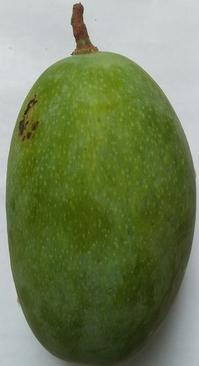Unripe: (1, 1, 199, 366)
